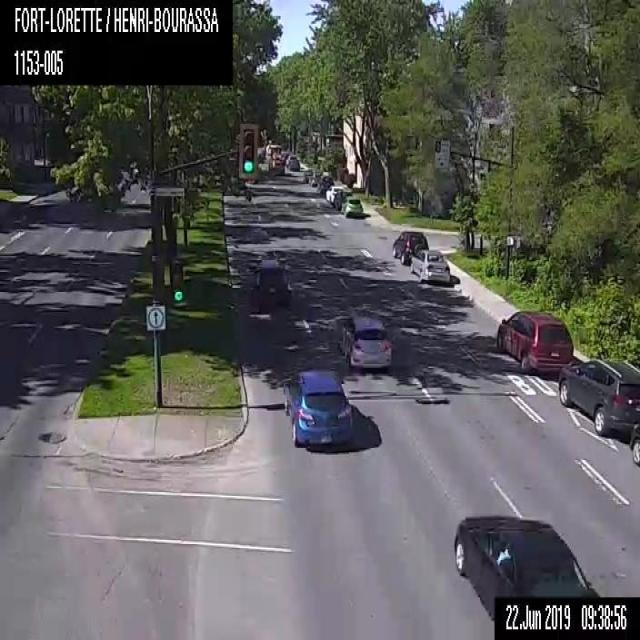vehicle: (452, 512, 601, 623), (557, 354, 639, 438), (281, 368, 353, 449), (496, 309, 573, 377), (337, 309, 392, 372), (252, 254, 294, 310), (410, 249, 451, 285), (392, 229, 428, 264), (341, 196, 364, 218), (302, 168, 322, 185), (325, 186, 344, 202), (317, 175, 333, 192), (268, 155, 282, 174), (286, 156, 301, 172)
